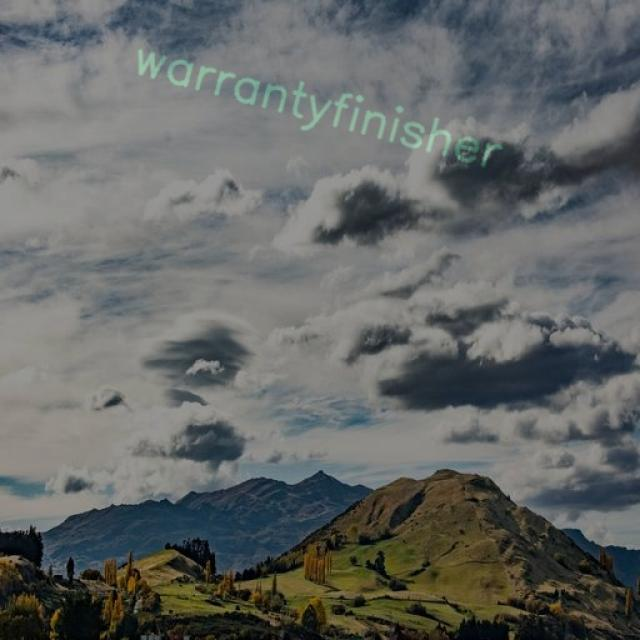watermark: (119, 35, 530, 178)
